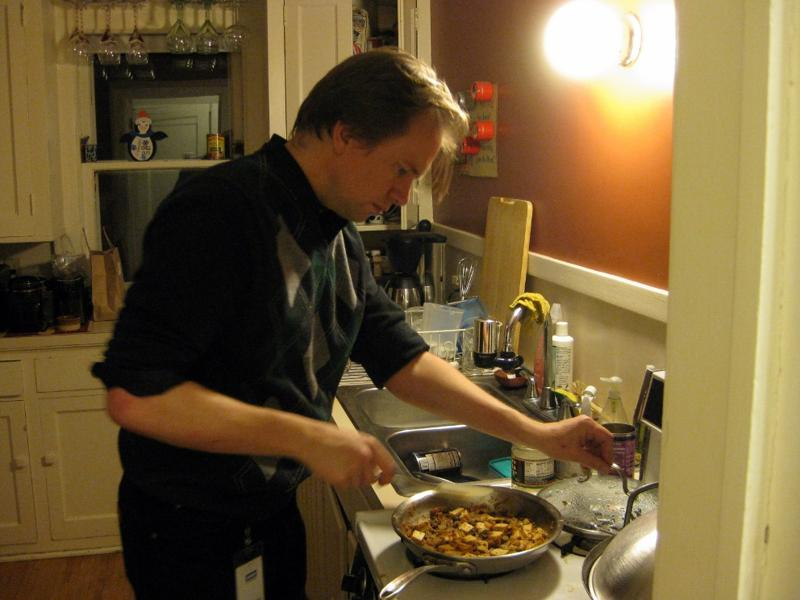person: (99, 48, 624, 596)
